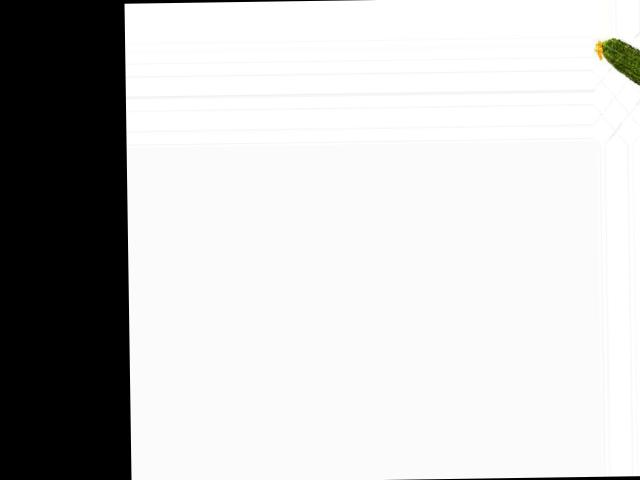cucumber: (593, 36, 640, 117)
